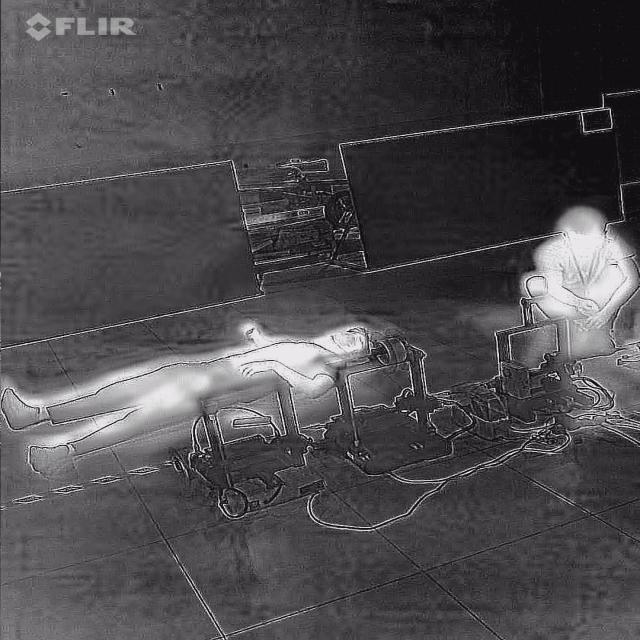Victim: (0, 316, 391, 479), (516, 198, 639, 362)
